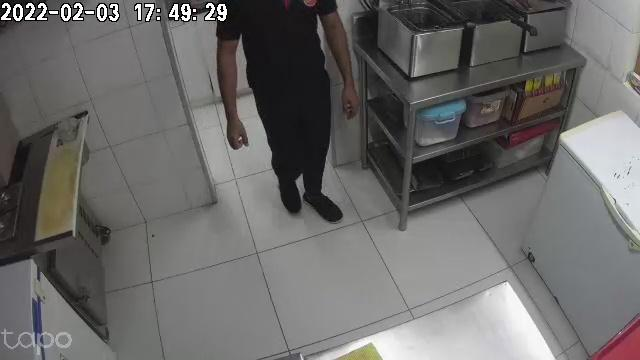no_gloves: (223, 106, 250, 149), (339, 71, 361, 119)
